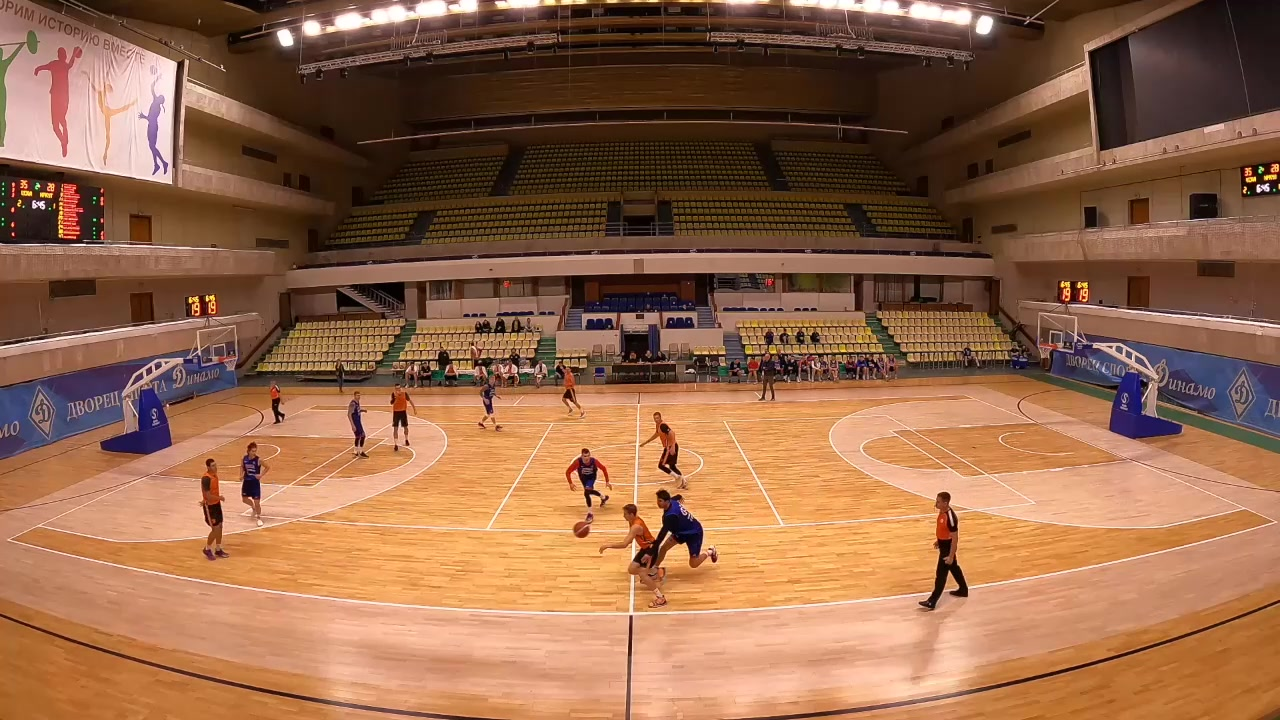basketball: (314, 572, 342, 600)
